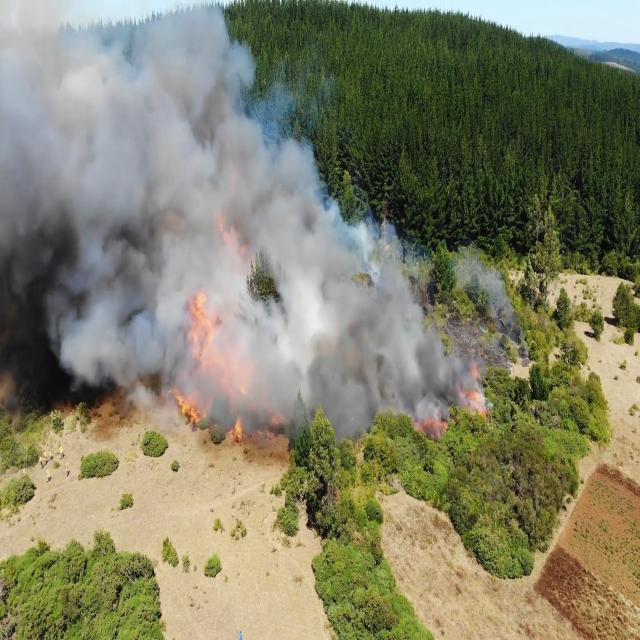Fire: (175, 208, 255, 443), (424, 352, 488, 445)
Smoke: (0, 2, 490, 426)
